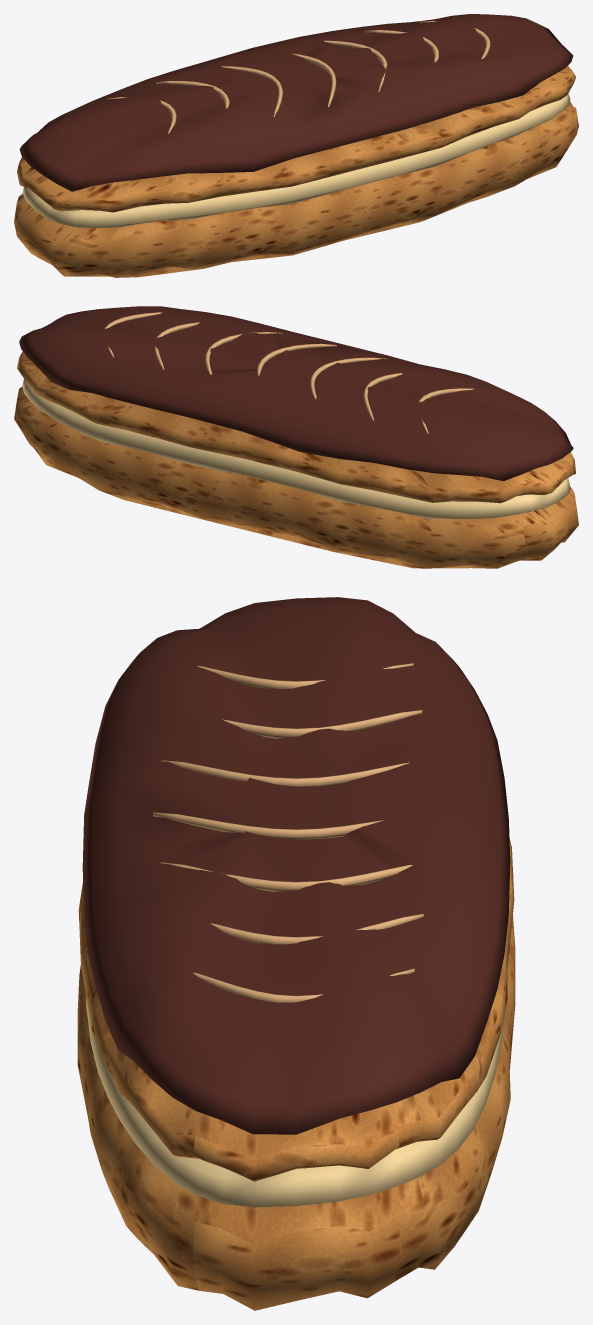
Rendered from eclair.glb.
3 views of the same model, one above another, from view 1: azimuth 30°, elevation 25°; view 2: azimuth 150°, elevation 25°; view 3: azimuth 270°, elevation 25° (orthographic). The views are drawn at different scales.
Visible parts, largest first — view 1: eclair; view 2: eclair; view 3: eclair.
Part boxes in pixels (x1,y1,x2,y2): eclair: (14, 14, 578, 277); eclair: (14, 306, 578, 568); eclair: (77, 597, 515, 1310).
Size of the model in its own units: 2 by 0.4971 by 0.7012.
4 materials, 1 textured.
